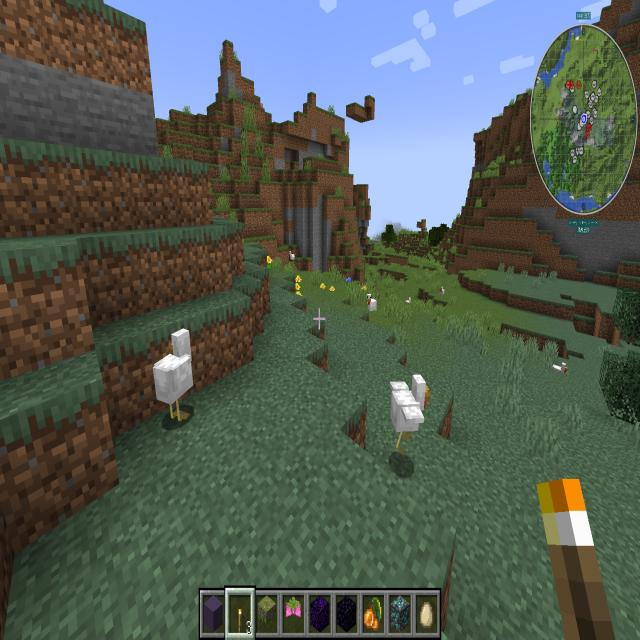chicken: (151, 319, 198, 430), (381, 370, 434, 466), (365, 292, 379, 321), (550, 359, 570, 376), (438, 282, 448, 298), (288, 248, 296, 264), (403, 295, 413, 307)
